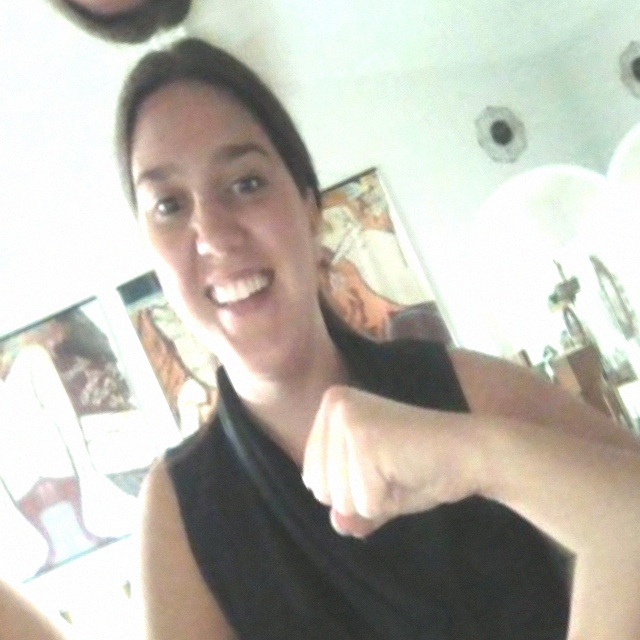Rock: (263, 340, 500, 573)
